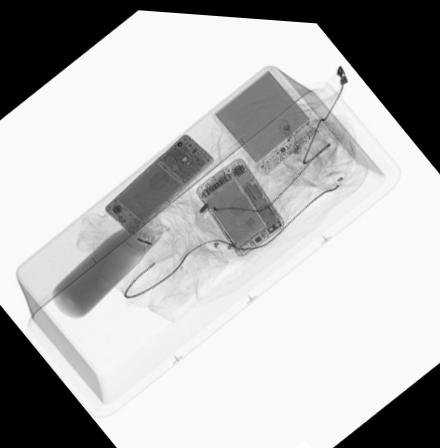Powerbank: (210, 64, 318, 173)
